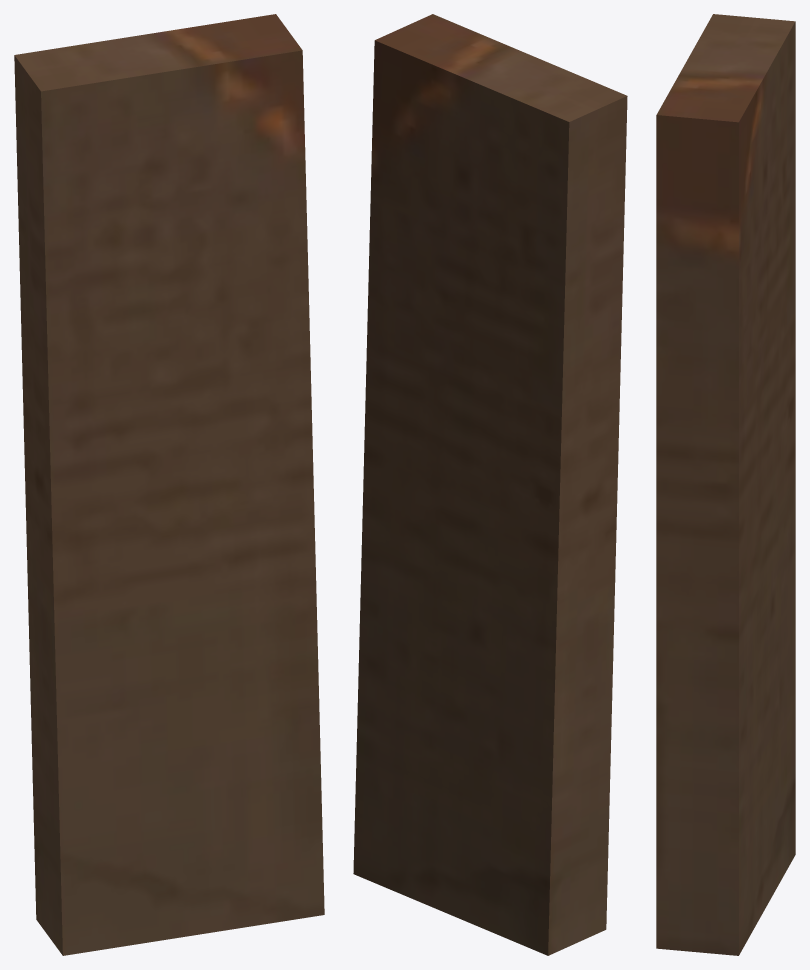
Rendered from fan_right__blade_6.glb.
3 renders of one model, left to right at view 1: azimuth 30°, elevation 25°; view 2: azimuth 150°, elevation 25°; view 3: azimuth 270°, elevation 25°, orthographic. The views are drawn at different scales.
Visible parts, largest first — view 1: geometry_0; view 2: geometry_0; view 3: geometry_0.
Boxes of the visible parts, left/top/right/bottom form: geometry_0: left=14, top=14, right=324, bottom=955; geometry_0: left=353, top=14, right=627, bottom=955; geometry_0: left=656, top=14, right=795, bottom=955.
Bounding box in the file's own units: 0.00911 × 0.0282 × 0.00428.
Materials: 1 (1 with a texture image).
